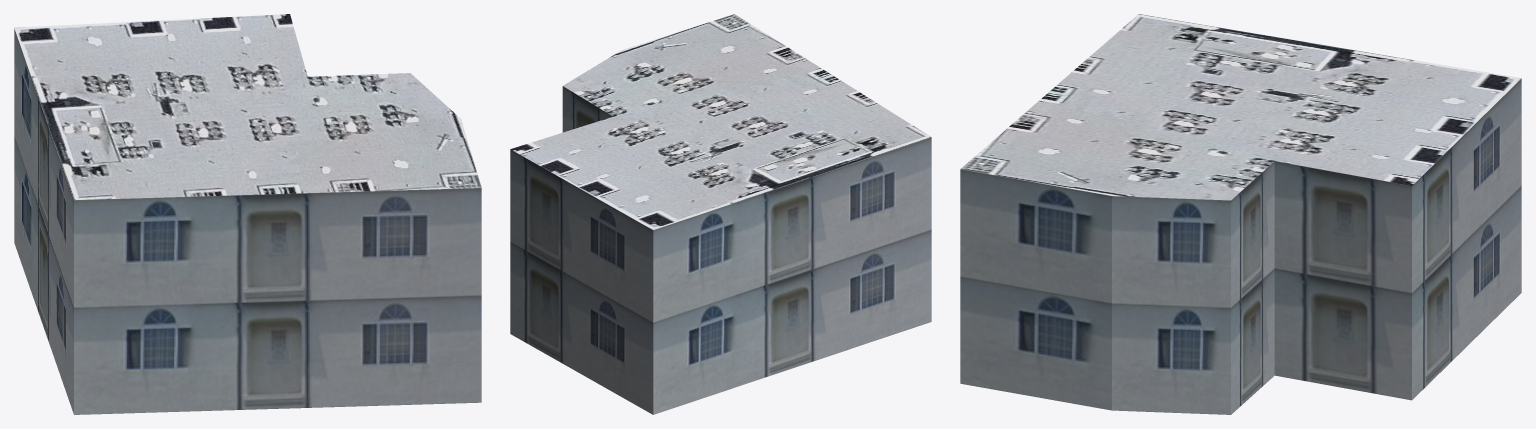
The model's file is ResTex__3016.fbx.
3 renders of one model, left to right at view 1: azimuth 30°, elevation 25°; view 2: azimuth 150°, elevation 25°; view 3: azimuth 270°, elevation 25°, orthographic. The views are drawn at different scales.
Visible parts, largest first — view 1: CityEngineMaterial_17_m, CityEngineMaterial_4_m; view 2: CityEngineMaterial_17_m, CityEngineMaterial_4_m; view 3: CityEngineMaterial_17_m, CityEngineMaterial_4_m.
Boxes of the visible parts, box(x1,y1,x2,y2) form: CityEngineMaterial_17_m: box(14, 29, 481, 414); CityEngineMaterial_4_m: box(14, 14, 481, 200); CityEngineMaterial_17_m: box(510, 86, 931, 414); CityEngineMaterial_4_m: box(511, 14, 931, 229); CityEngineMaterial_17_m: box(960, 78, 1521, 414); CityEngineMaterial_4_m: box(960, 14, 1520, 200).
Bounding box in the file's own units: 11.19 × 6 × 14.23.
2 materials, 2 textured.
